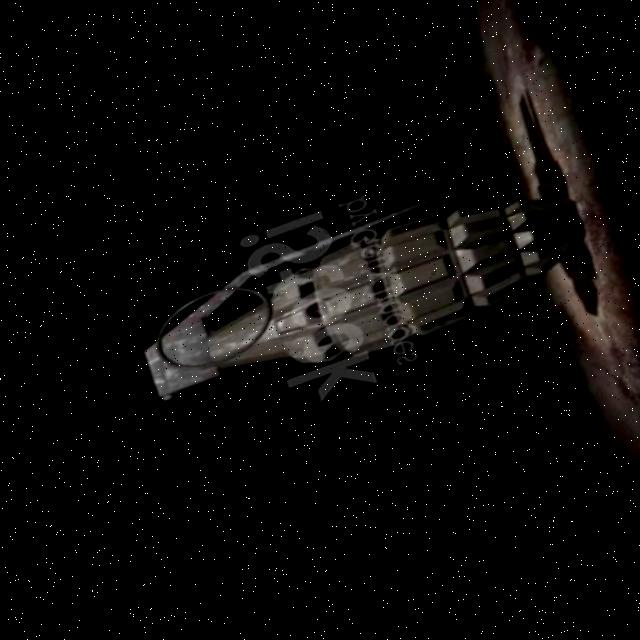grenade: (111, 156, 591, 437)
